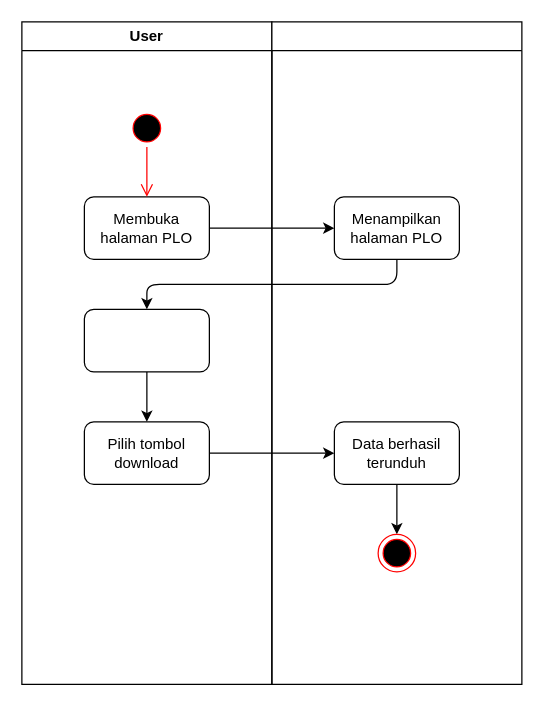
Image size: 544x706. Some labels were removed from this diagram. Here are the shapes that lost their labels. From the top down, the box of each, then its label:
(83, 308, 209, 372): Tandai data PLO yang ingin di unduh
(271, 21, 522, 684): Sistem
